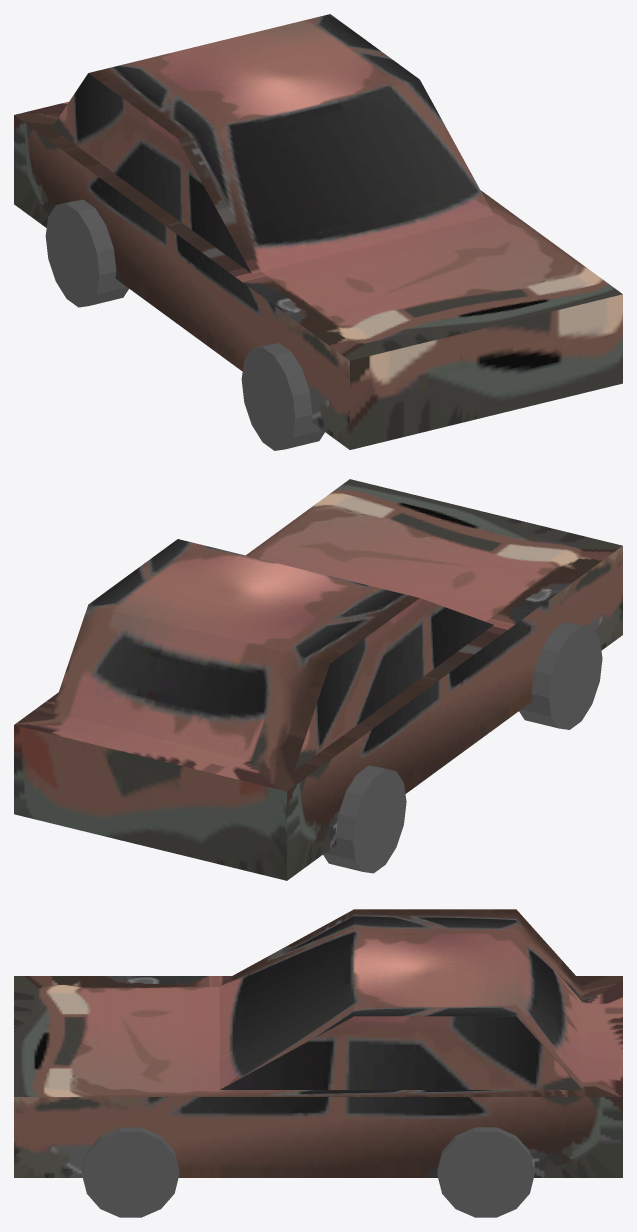
The model's file is Building_AncientRustedCar.glb.
3 renders of one model, top to bottom at view 1: azimuth 30°, elevation 25°; view 2: azimuth 150°, elevation 25°; view 3: azimuth 270°, elevation 25°, orthographic. The views are drawn at different scales.
Visible parts, largest first — view 1: AncientRustedCar; view 2: AncientRustedCar; view 3: AncientRustedCar.
Boxes of the visible parts, x1,y1,x2,y2 form: AncientRustedCar: (14, 14, 622, 450); AncientRustedCar: (14, 479, 622, 880); AncientRustedCar: (14, 909, 622, 1217).
Size of the model in its own units: 1.93 by 1.29 by 3.75.
Materials: 1 (1 with a texture image).
